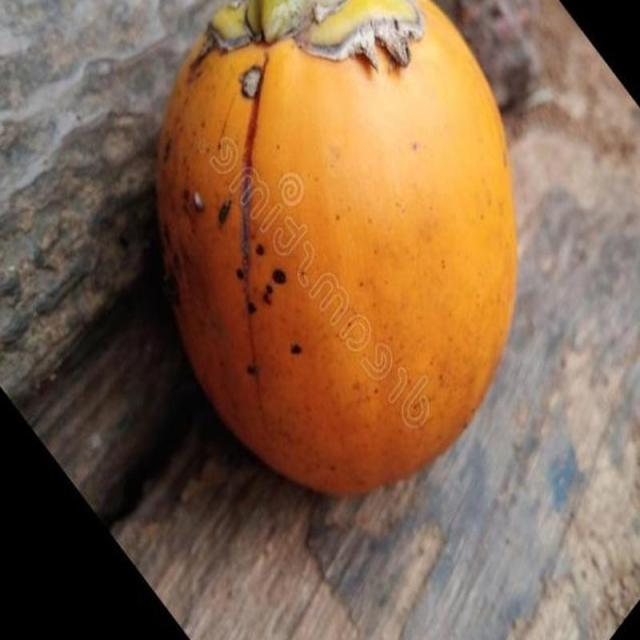good: (156, 0, 519, 499)
